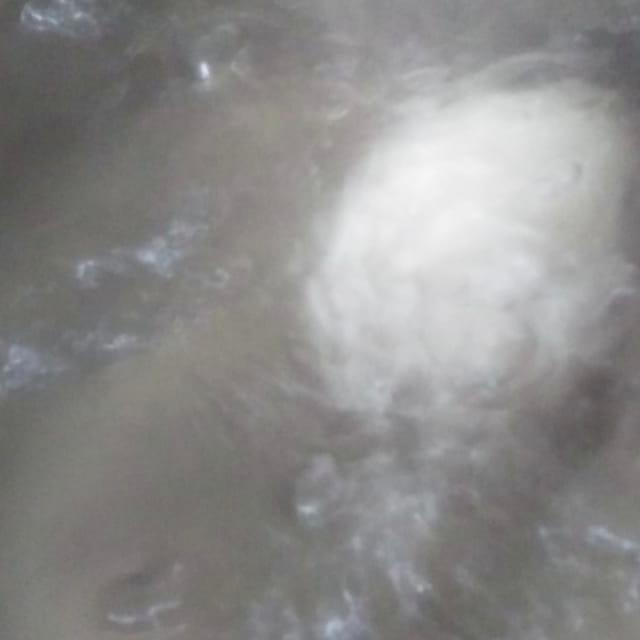egg: (293, 50, 640, 443)
